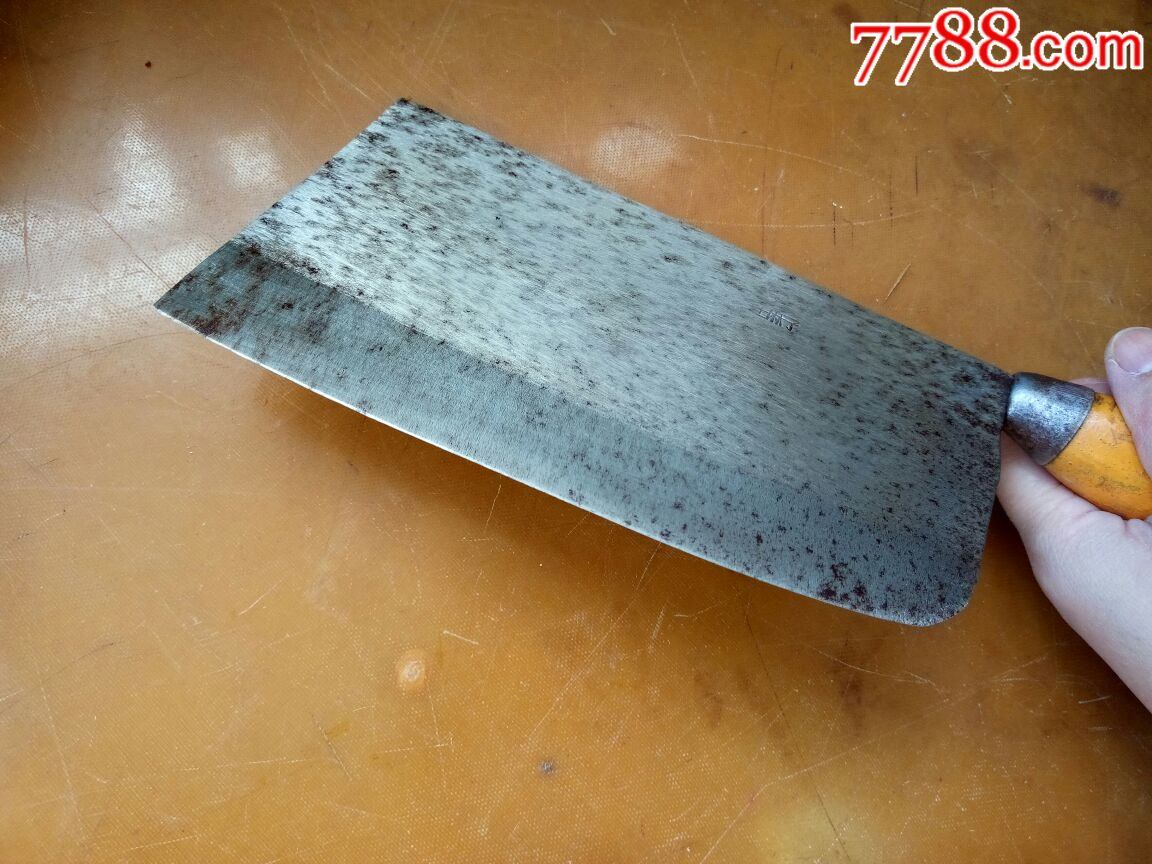knief: (197, 90, 1058, 614)
